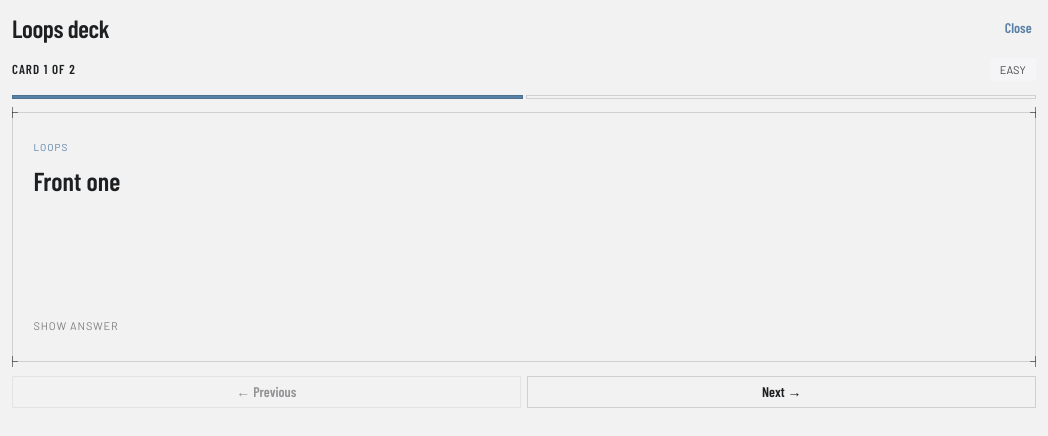
Test: keeps focus in the review when a move removes the focused Jump button
Click the text "Front one" at (77, 181), box top-left (33, 165), bottom-right (120, 196)
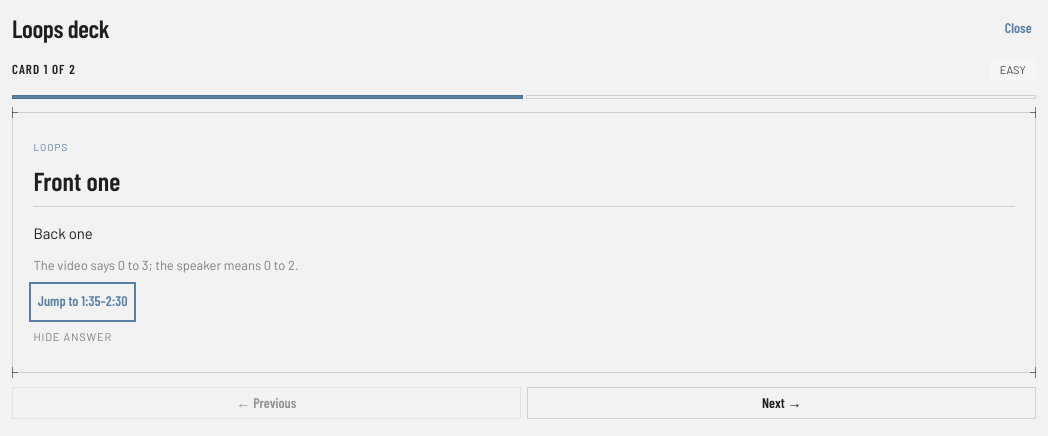
Press ArrowRight in the button "Jump to 1:35–2:30", box top-left (33, 286), bottom-right (132, 318)
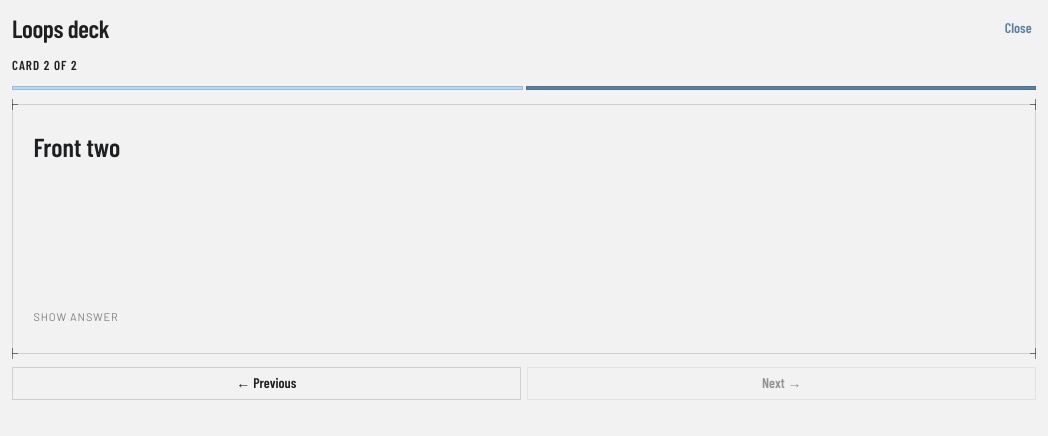
Now the text "Front two" is shown, box top-left (33, 131), bottom-right (120, 162)
